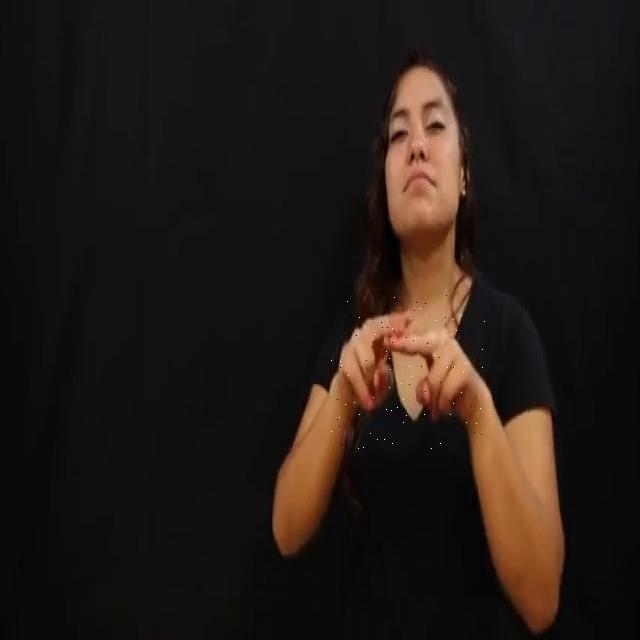salt: (330, 296, 486, 452)
